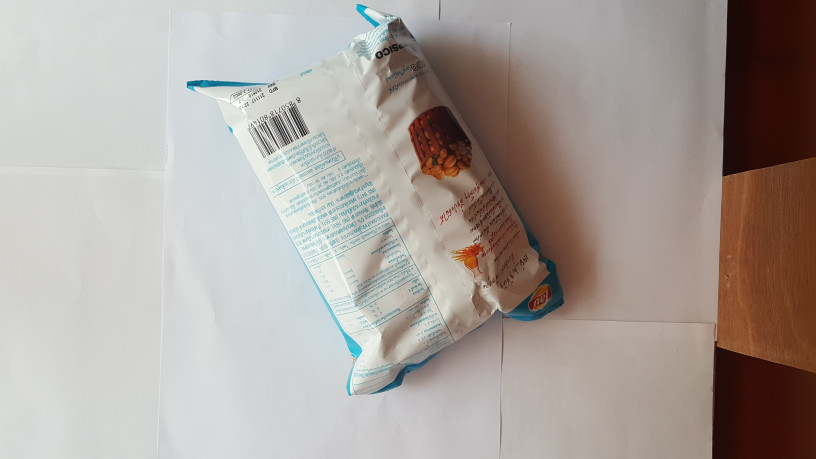lays-onion: (172, 2, 569, 411)
